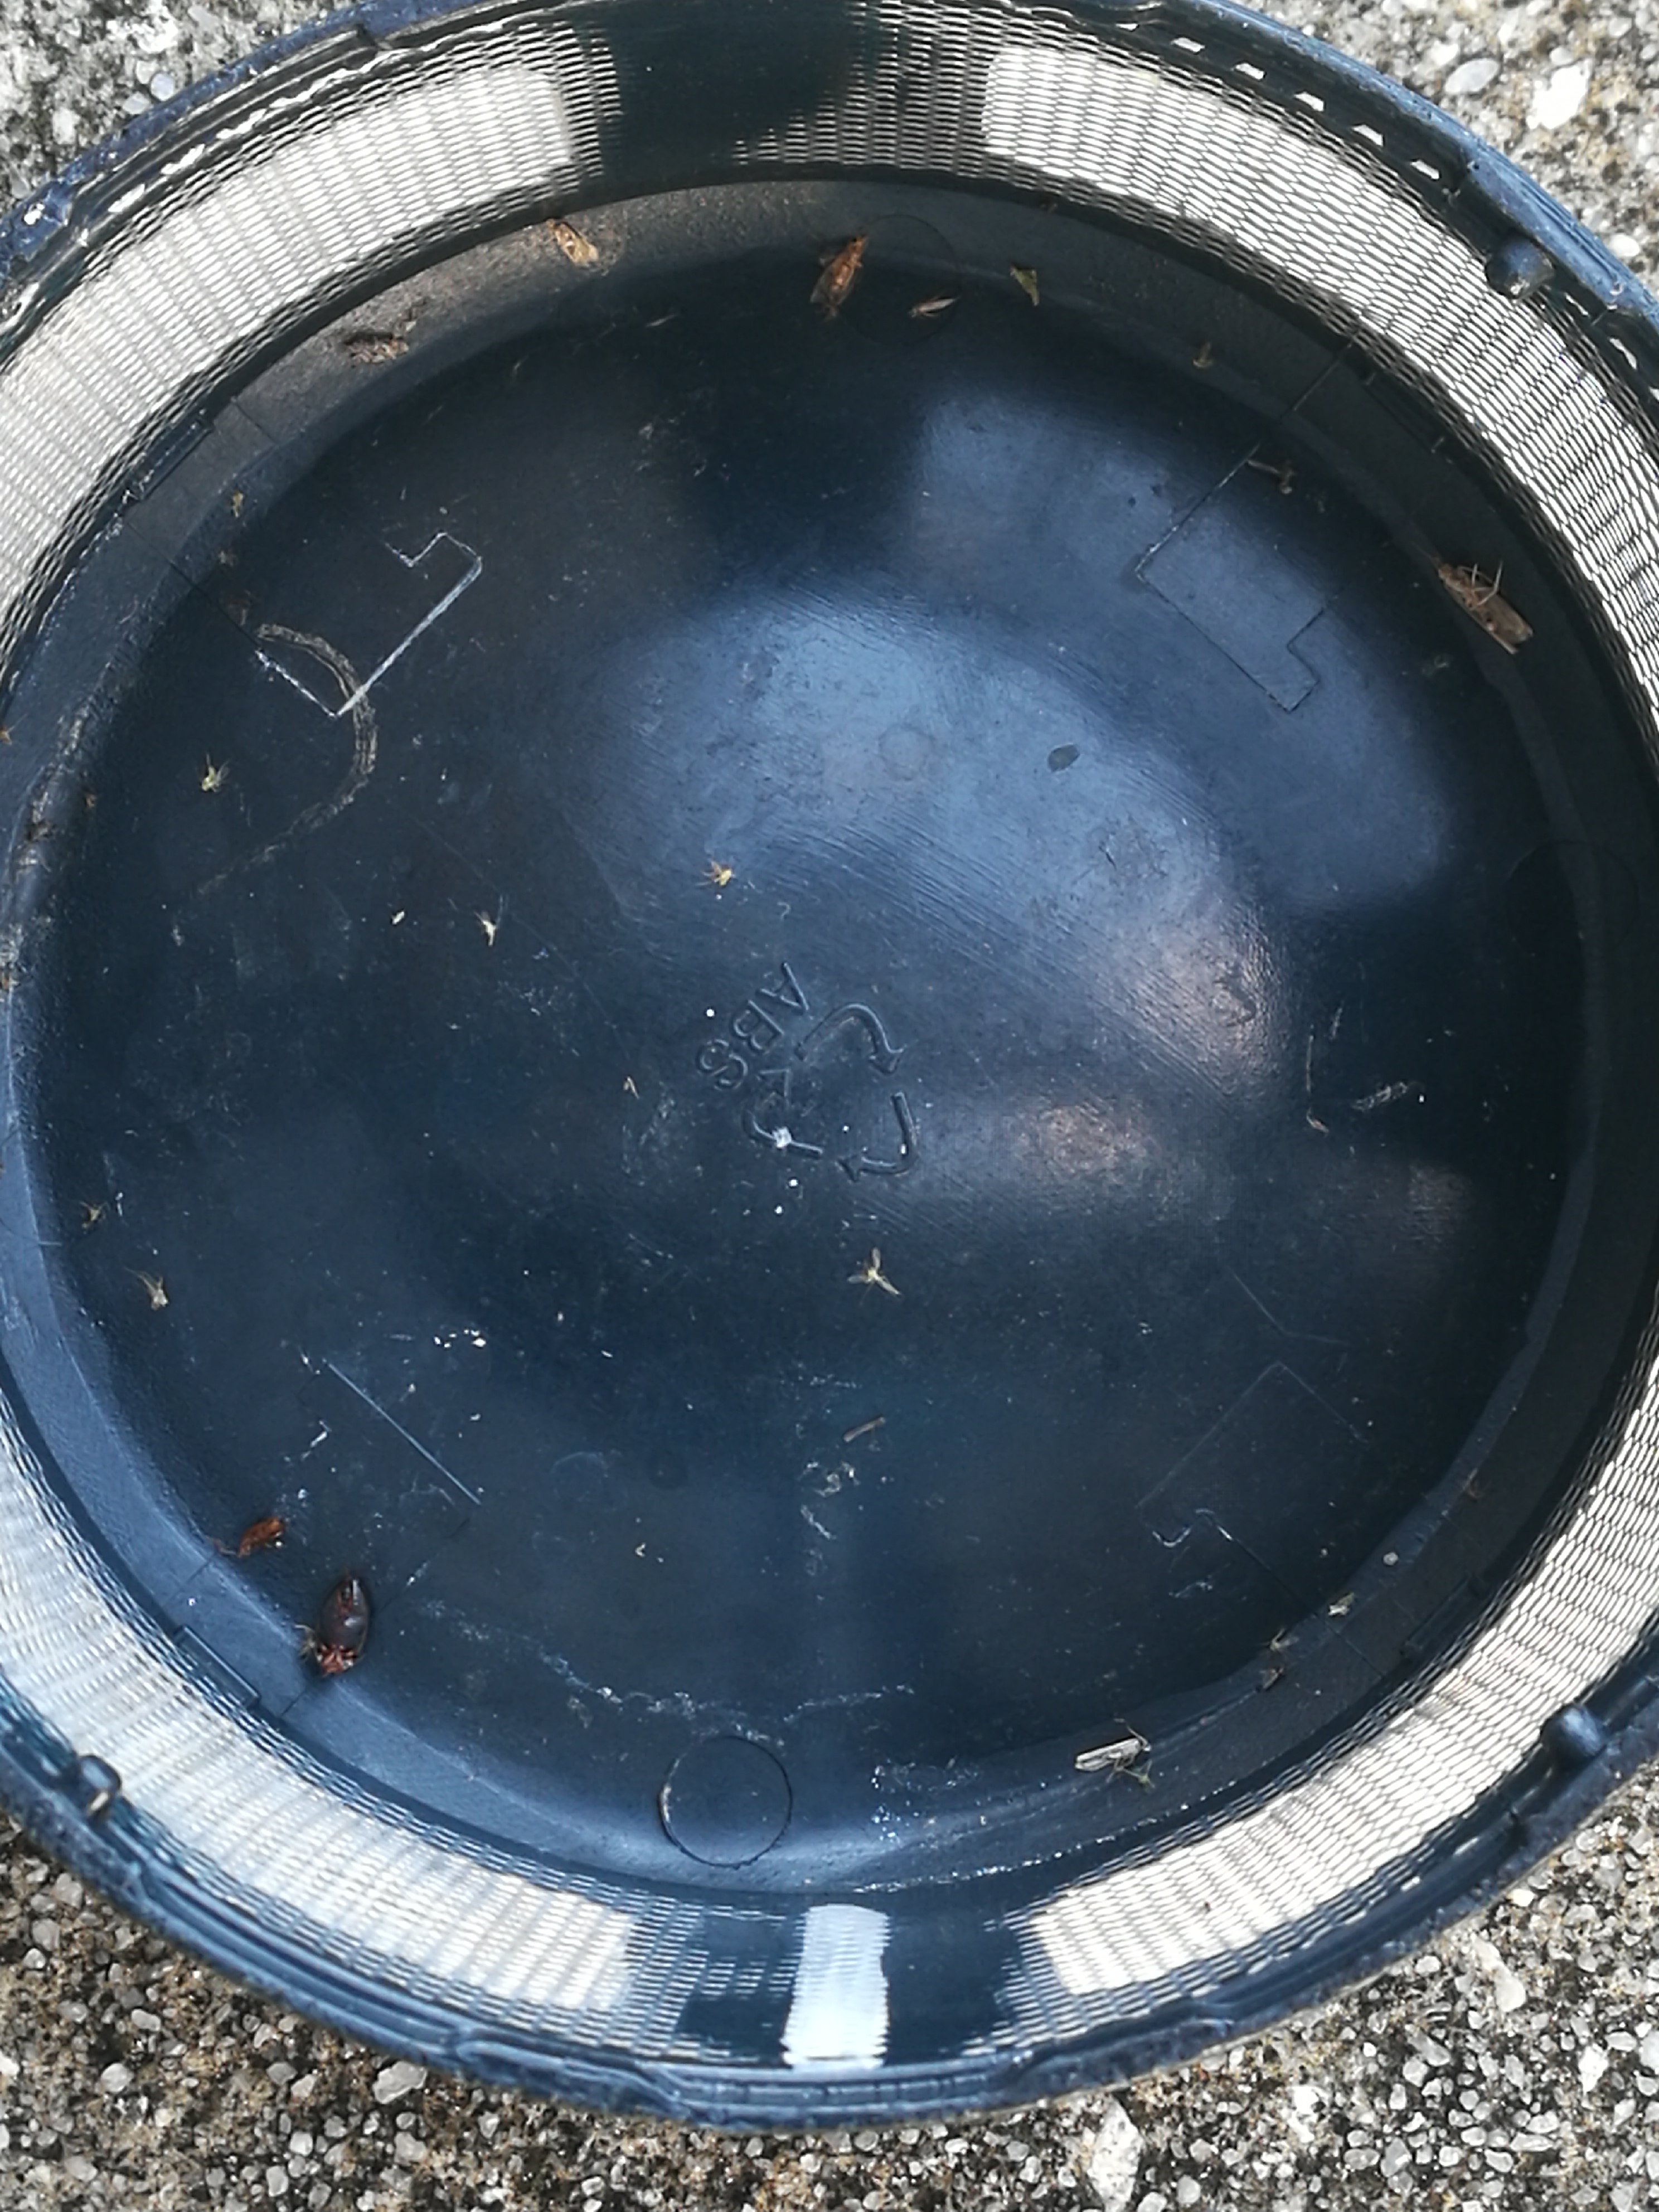beetle: (307, 1575, 371, 1674)
mosquito: (1432, 559, 1534, 655), (812, 233, 864, 305), (545, 219, 596, 265), (1075, 1738, 1143, 1771), (345, 338, 410, 366), (240, 1517, 282, 1554)
